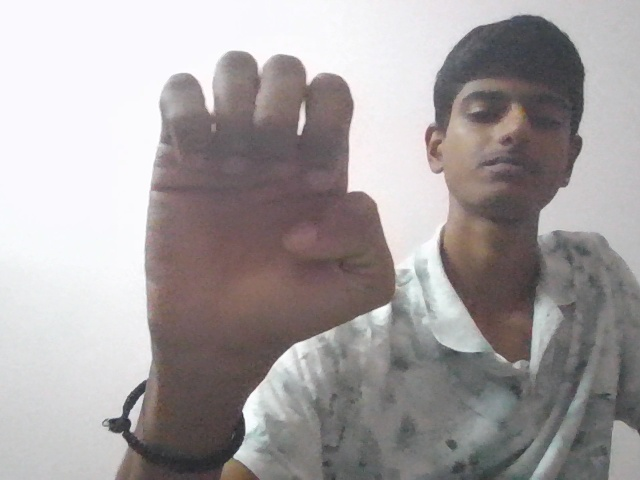yes: (105, 38, 401, 388)
